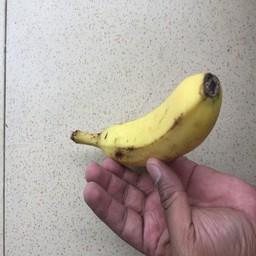Good_banana: (66, 64, 227, 165)
